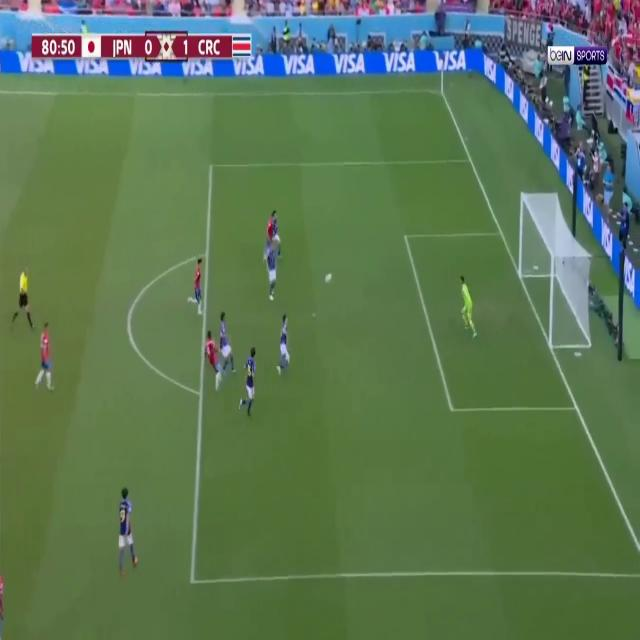Ball: (325, 271, 333, 285)
GoalKeeper: (459, 273, 480, 339)
Referee: (9, 262, 36, 331)
TEAM 1: (204, 328, 228, 393), (34, 322, 55, 391), (187, 256, 205, 317), (264, 213, 274, 270), (1, 564, 6, 638)
TEAM 2: (117, 485, 140, 579), (238, 344, 259, 421), (220, 308, 238, 378), (276, 311, 291, 377), (266, 238, 278, 304), (272, 208, 283, 262)
